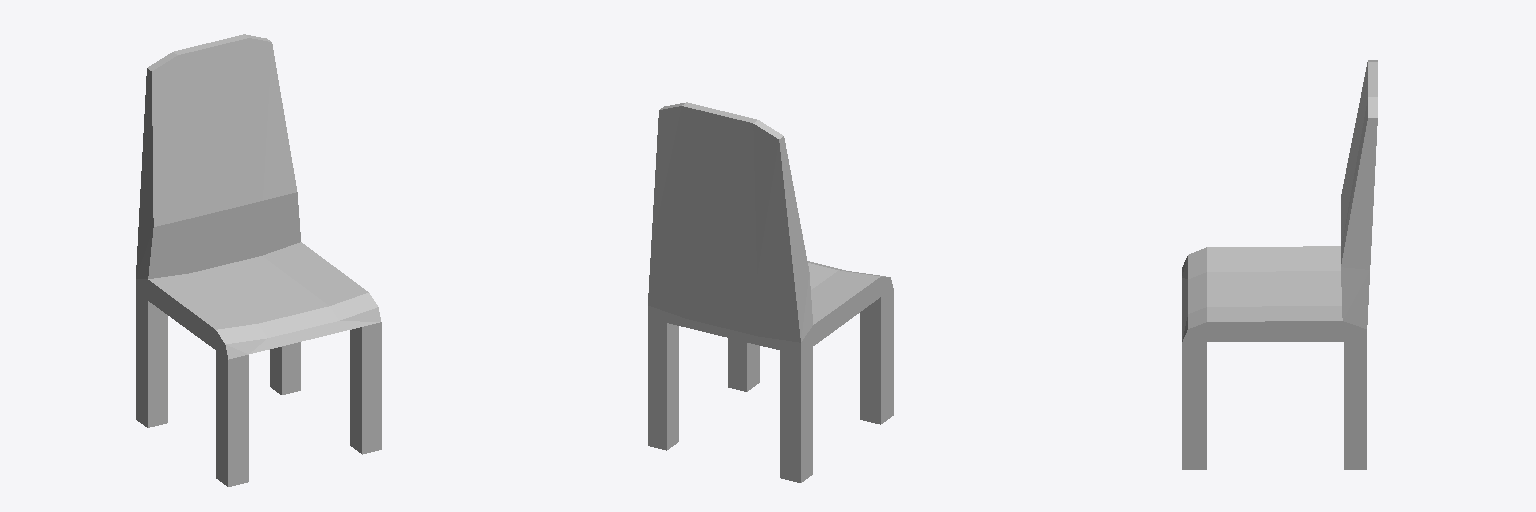
Rendered from mesh_officechair.obj.
The picture shows the model from 3 angles: view 1: azimuth 30°, elevation 25°; view 2: azimuth 150°, elevation 25°; view 3: azimuth 270°, elevation 25°; orthographic projection.
Parts seen in each view (by area): view 1: Cube.001_Cube.003; view 2: Cube.001_Cube.003; view 3: Cube.001_Cube.003.
Part boxes in pixels (left/top/right/bottom): Cube.001_Cube.003: left=136, top=34, right=381, bottom=486; Cube.001_Cube.003: left=648, top=102, right=893, bottom=482; Cube.001_Cube.003: left=1182, top=60, right=1377, bottom=469.
Bounding box in the file's own units: 2 × 4.41 × 2.21.